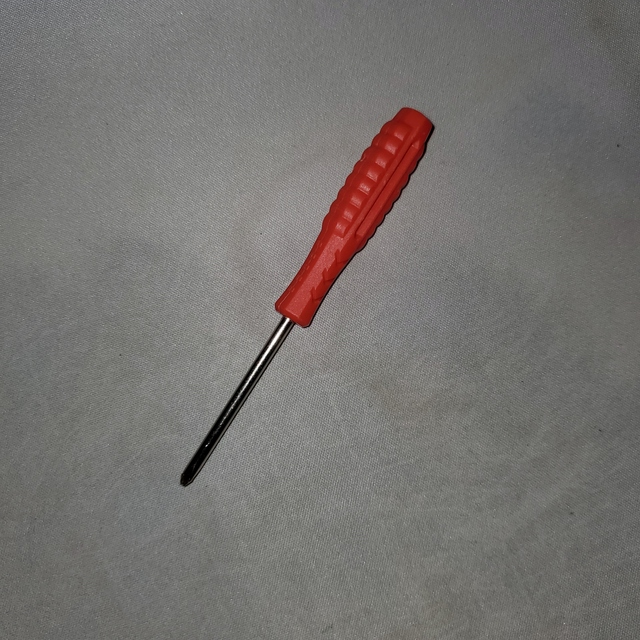screwdriver: (173, 93, 436, 492)
